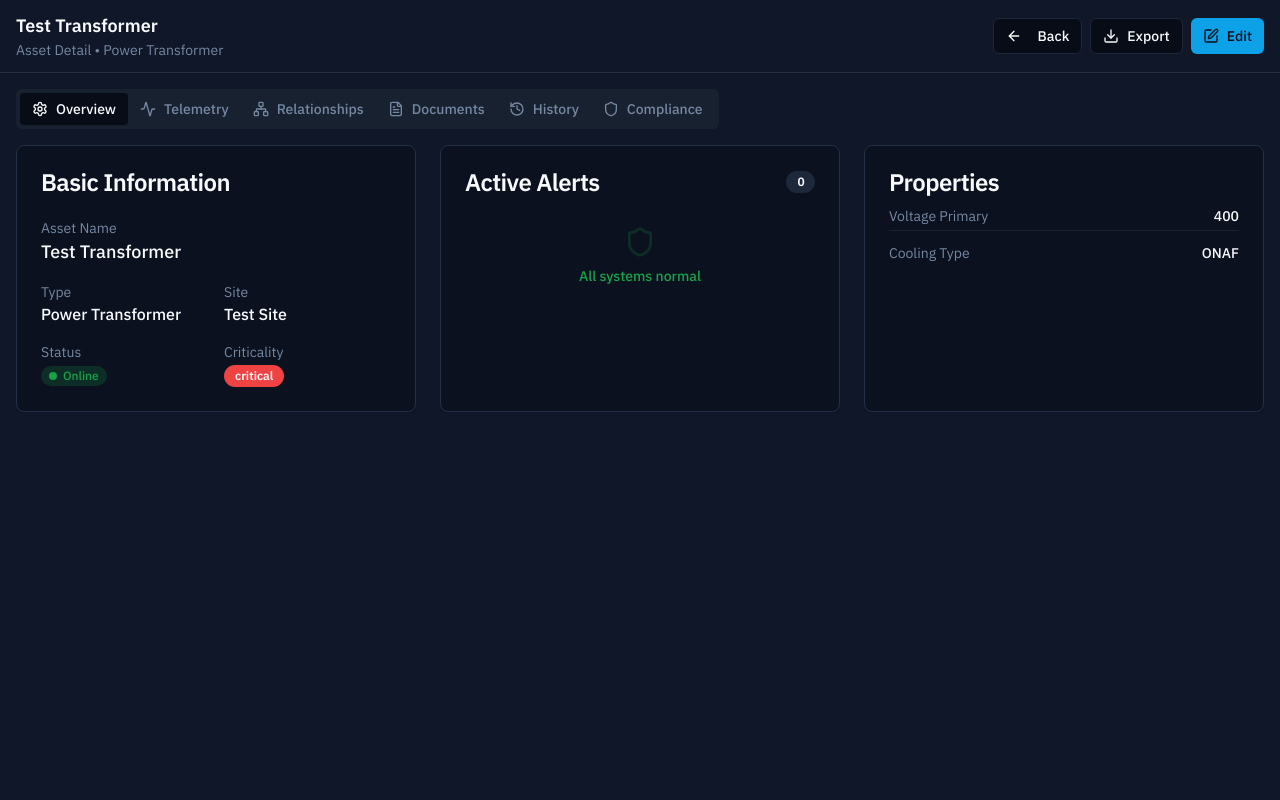
Test: TransmissionAssetDetailPage - Property Editing › toggles edit mode when Edit button is clicked
This screenshot has width=1280, height=800.
Click the button "Edit" at (1227, 36), box [1191,18,1264,54]
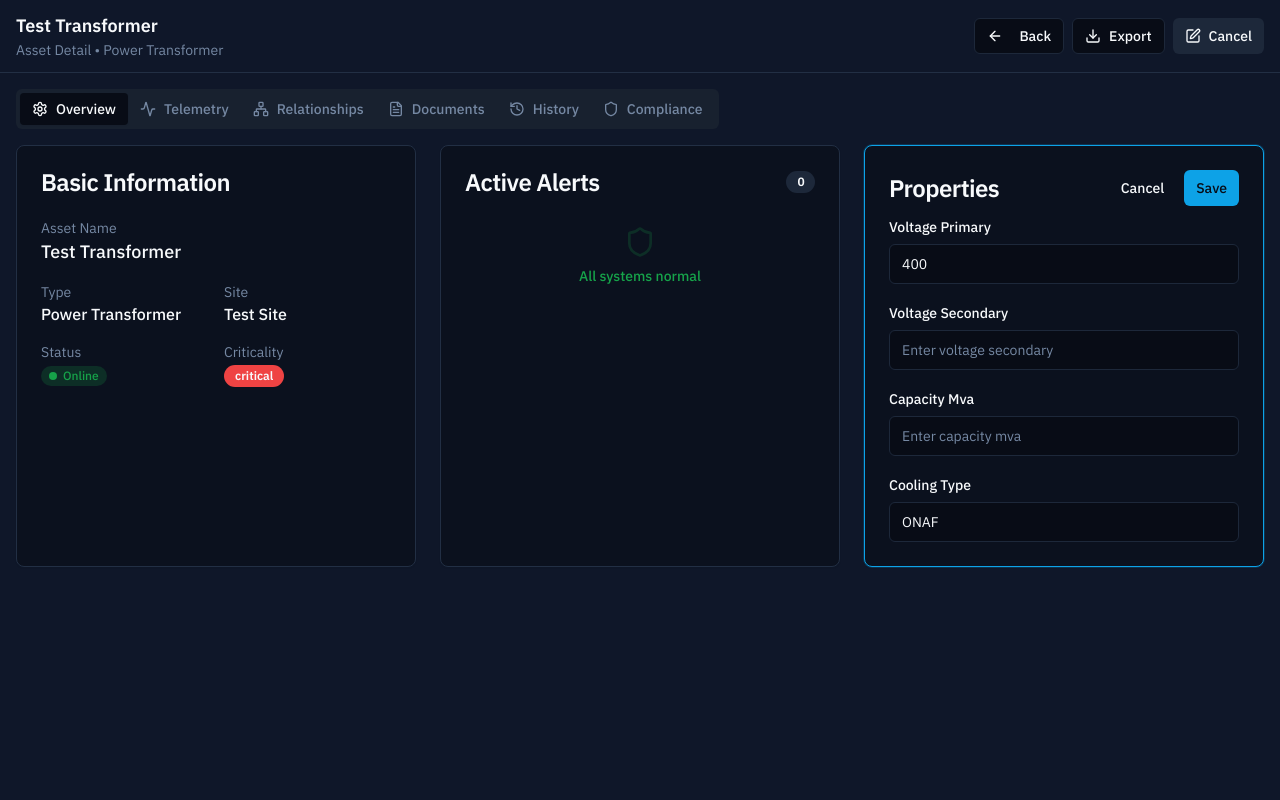
Result: the button "Cancel" in the row of "Asset Detail • Power Transformer" is shown
Result: the button "Save" is shown at [1184,170,1239,206]
Click cancel (the main edit toggle button which now says Cancel)
Click the button "Cancel" in the row of "Asset Detail • Power Transformer" at (1218, 36), box [1172,18,1264,54]
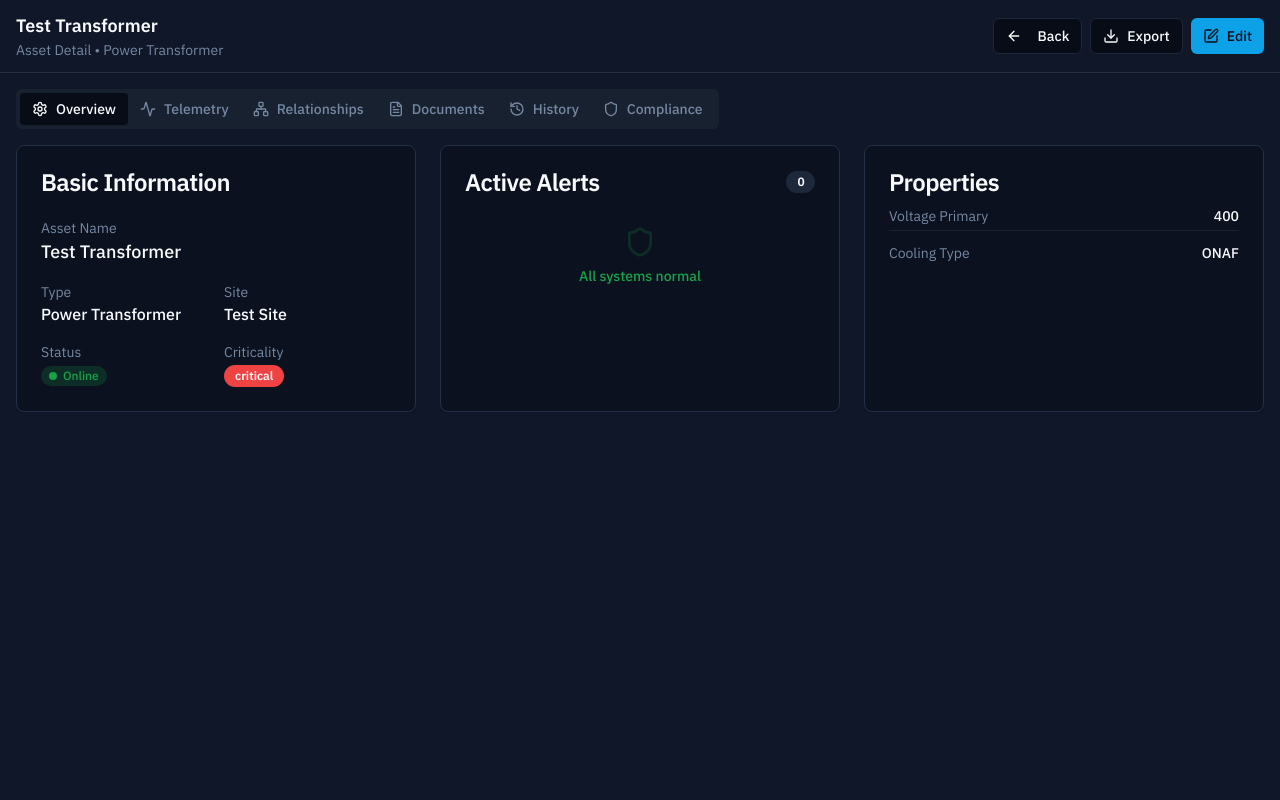
Result: the button "Edit" is shown at [1191,18,1264,54]
Result: the button "Save" is gone
